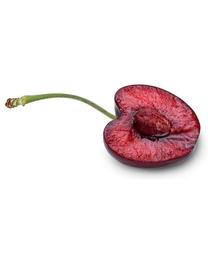cherry: (103, 84, 201, 169)
